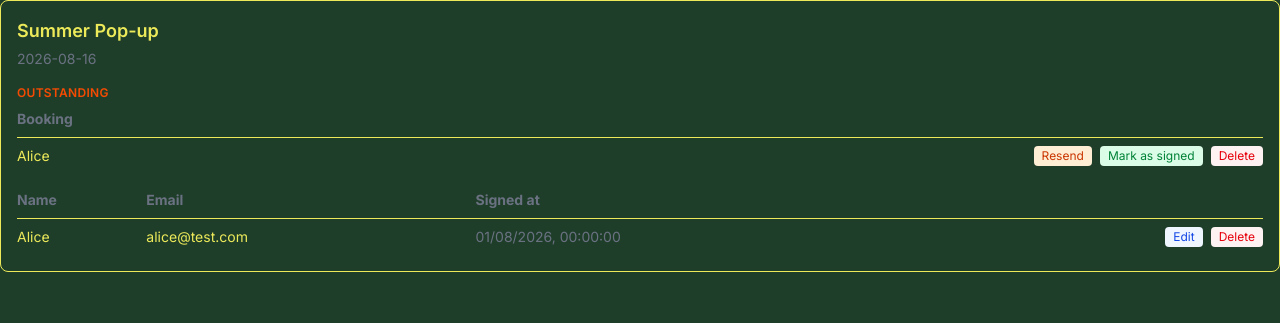
it: WaiverManager › marks an outstanding waiver as signed
The image size is (1280, 323).
Click the button "Mark as signed".
click(1151, 156)  # box [1100,146,1203,166]
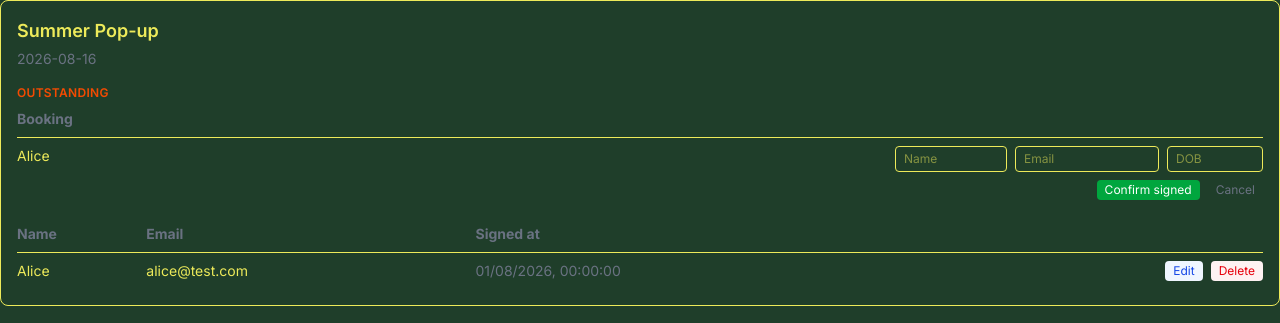
Click the button "Confirm signed".
click(1148, 190)  # box [1097,180,1200,200]
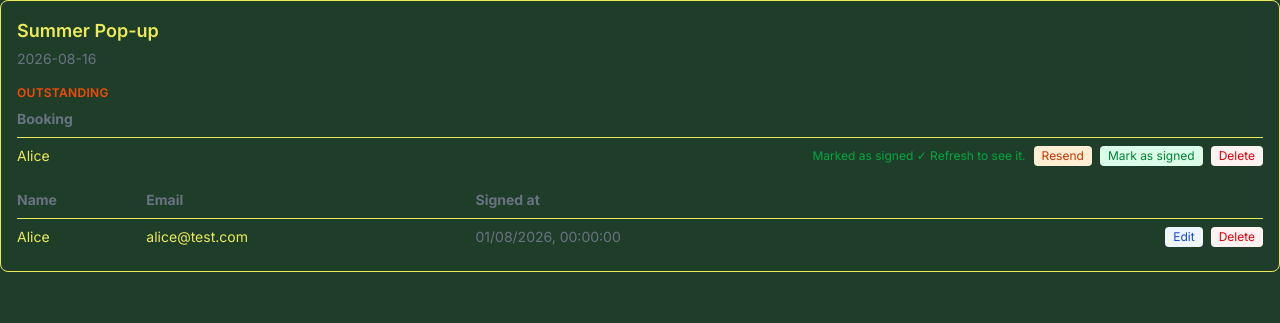
Expected: the text "Marked as signed ✓ Refresh to see it." is shown, [812,148,1026,164]
